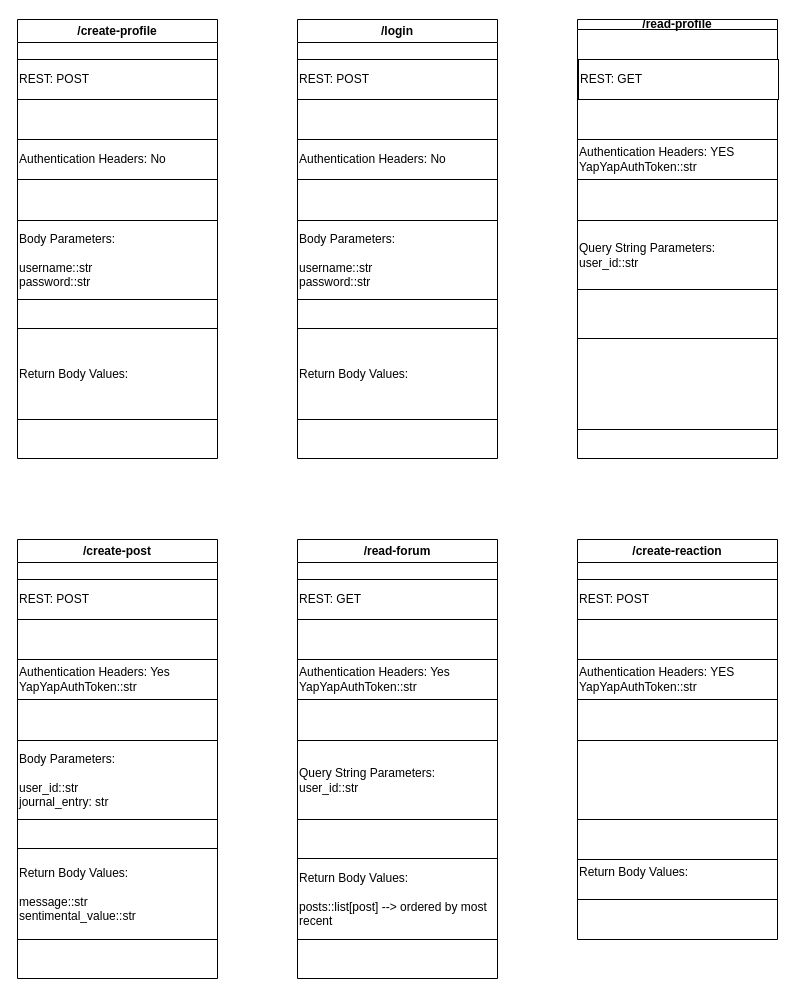
This 796x996 diagram has some shape labels left out. Here are the shapes that lost their labels. From the top down, the centre of each, then its label:
At [677,384]: "Return Body Values: avatar::str posts::list[post] --> ordered by most recent".
At [677,780]: "Body Parameters: post_id: str user_id: str reaction::str".
